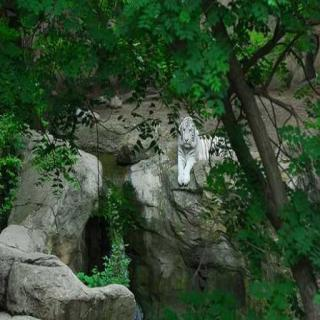Tiger: (162, 108, 240, 186)
